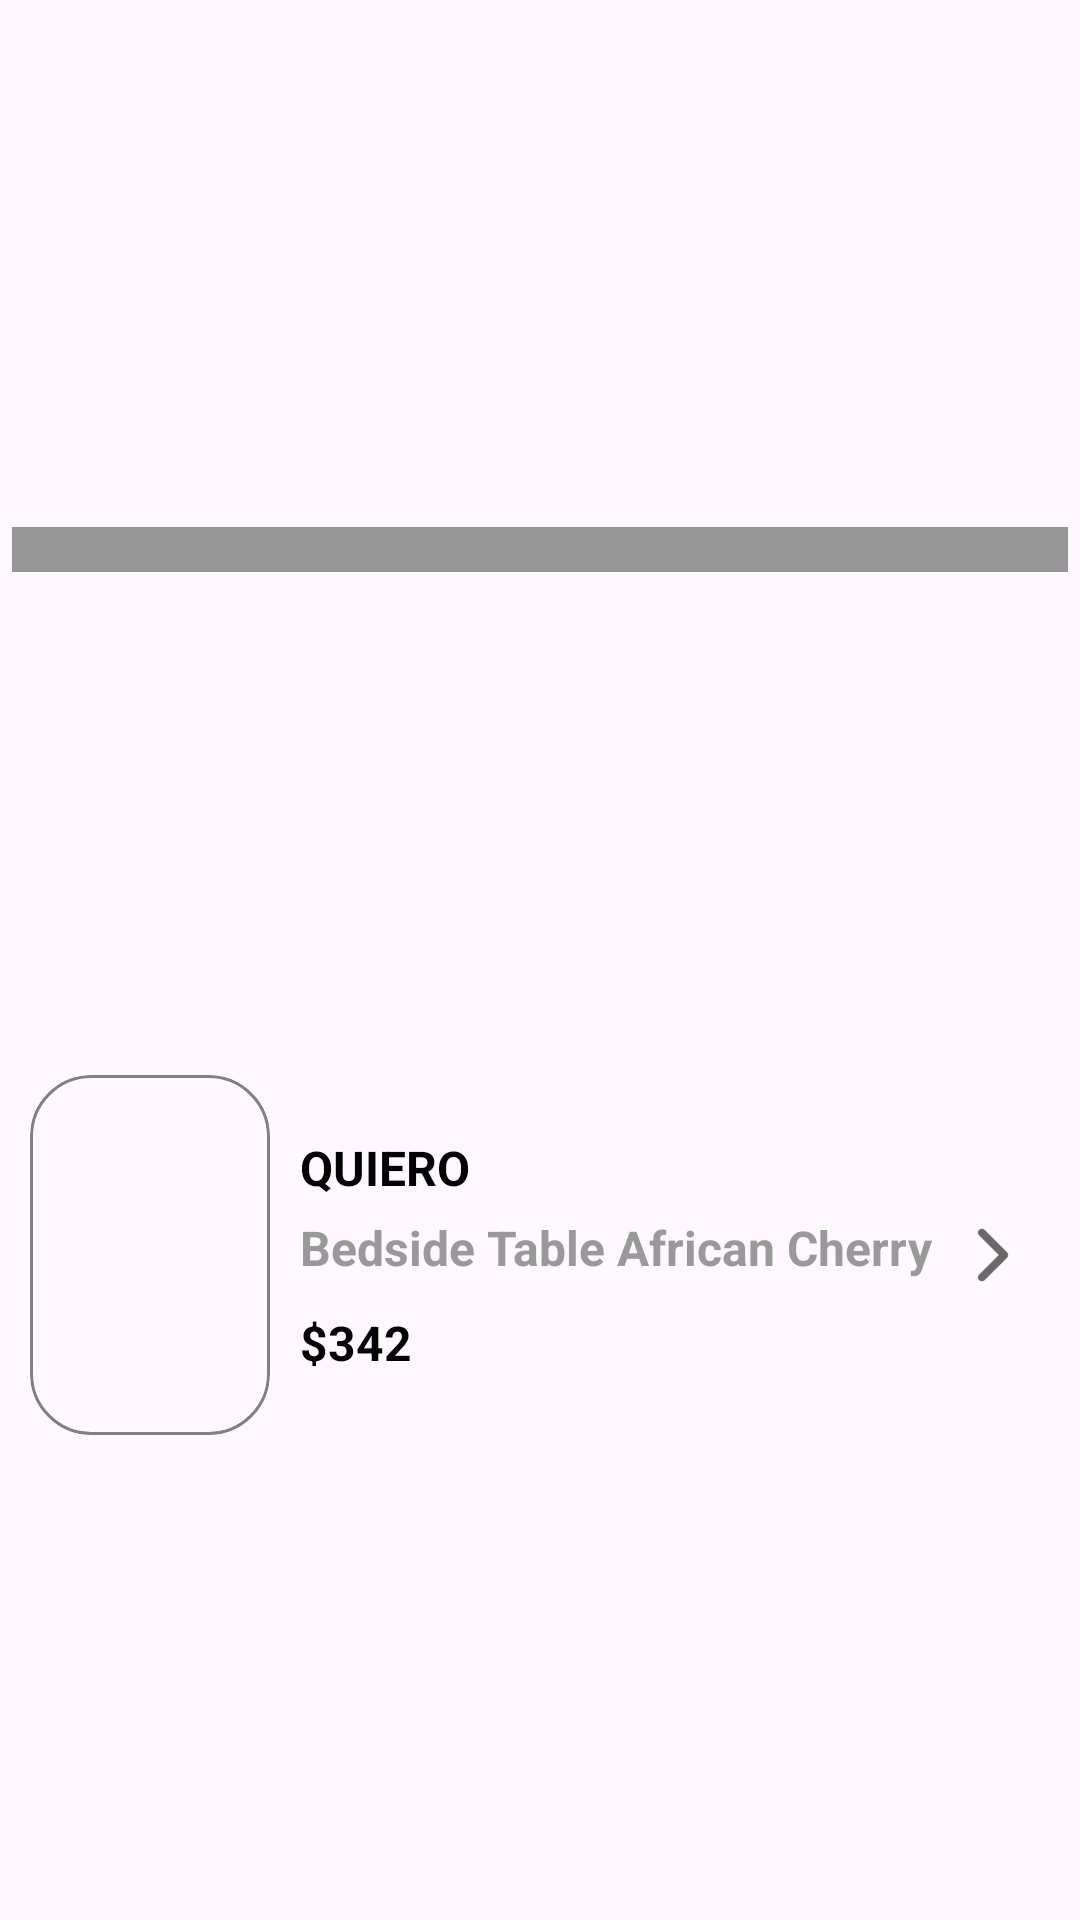

Icons on this 1080×1920 Android screen, each with the point to tap as (x=x, y=y):
rightarrow: (x=993, y=1255)
